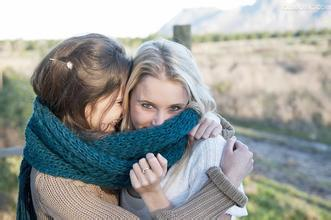NONE: (87, 90, 133, 137)
WRONG: (135, 93, 187, 142)
